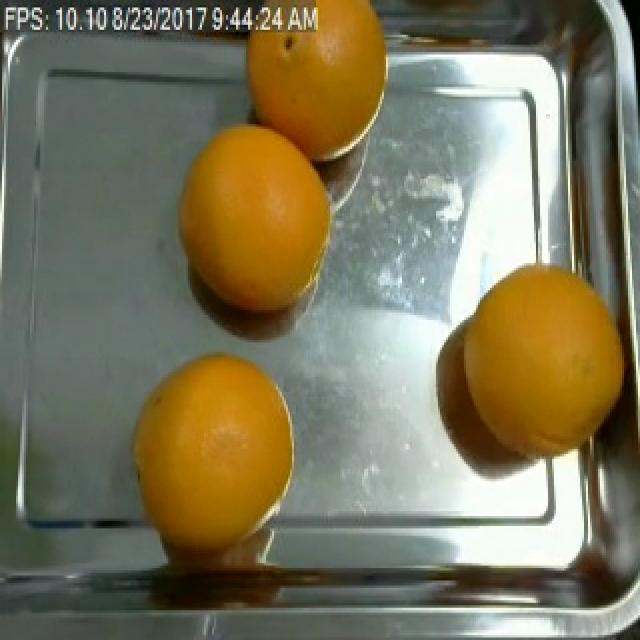Fruit: (228, 0, 394, 179)
